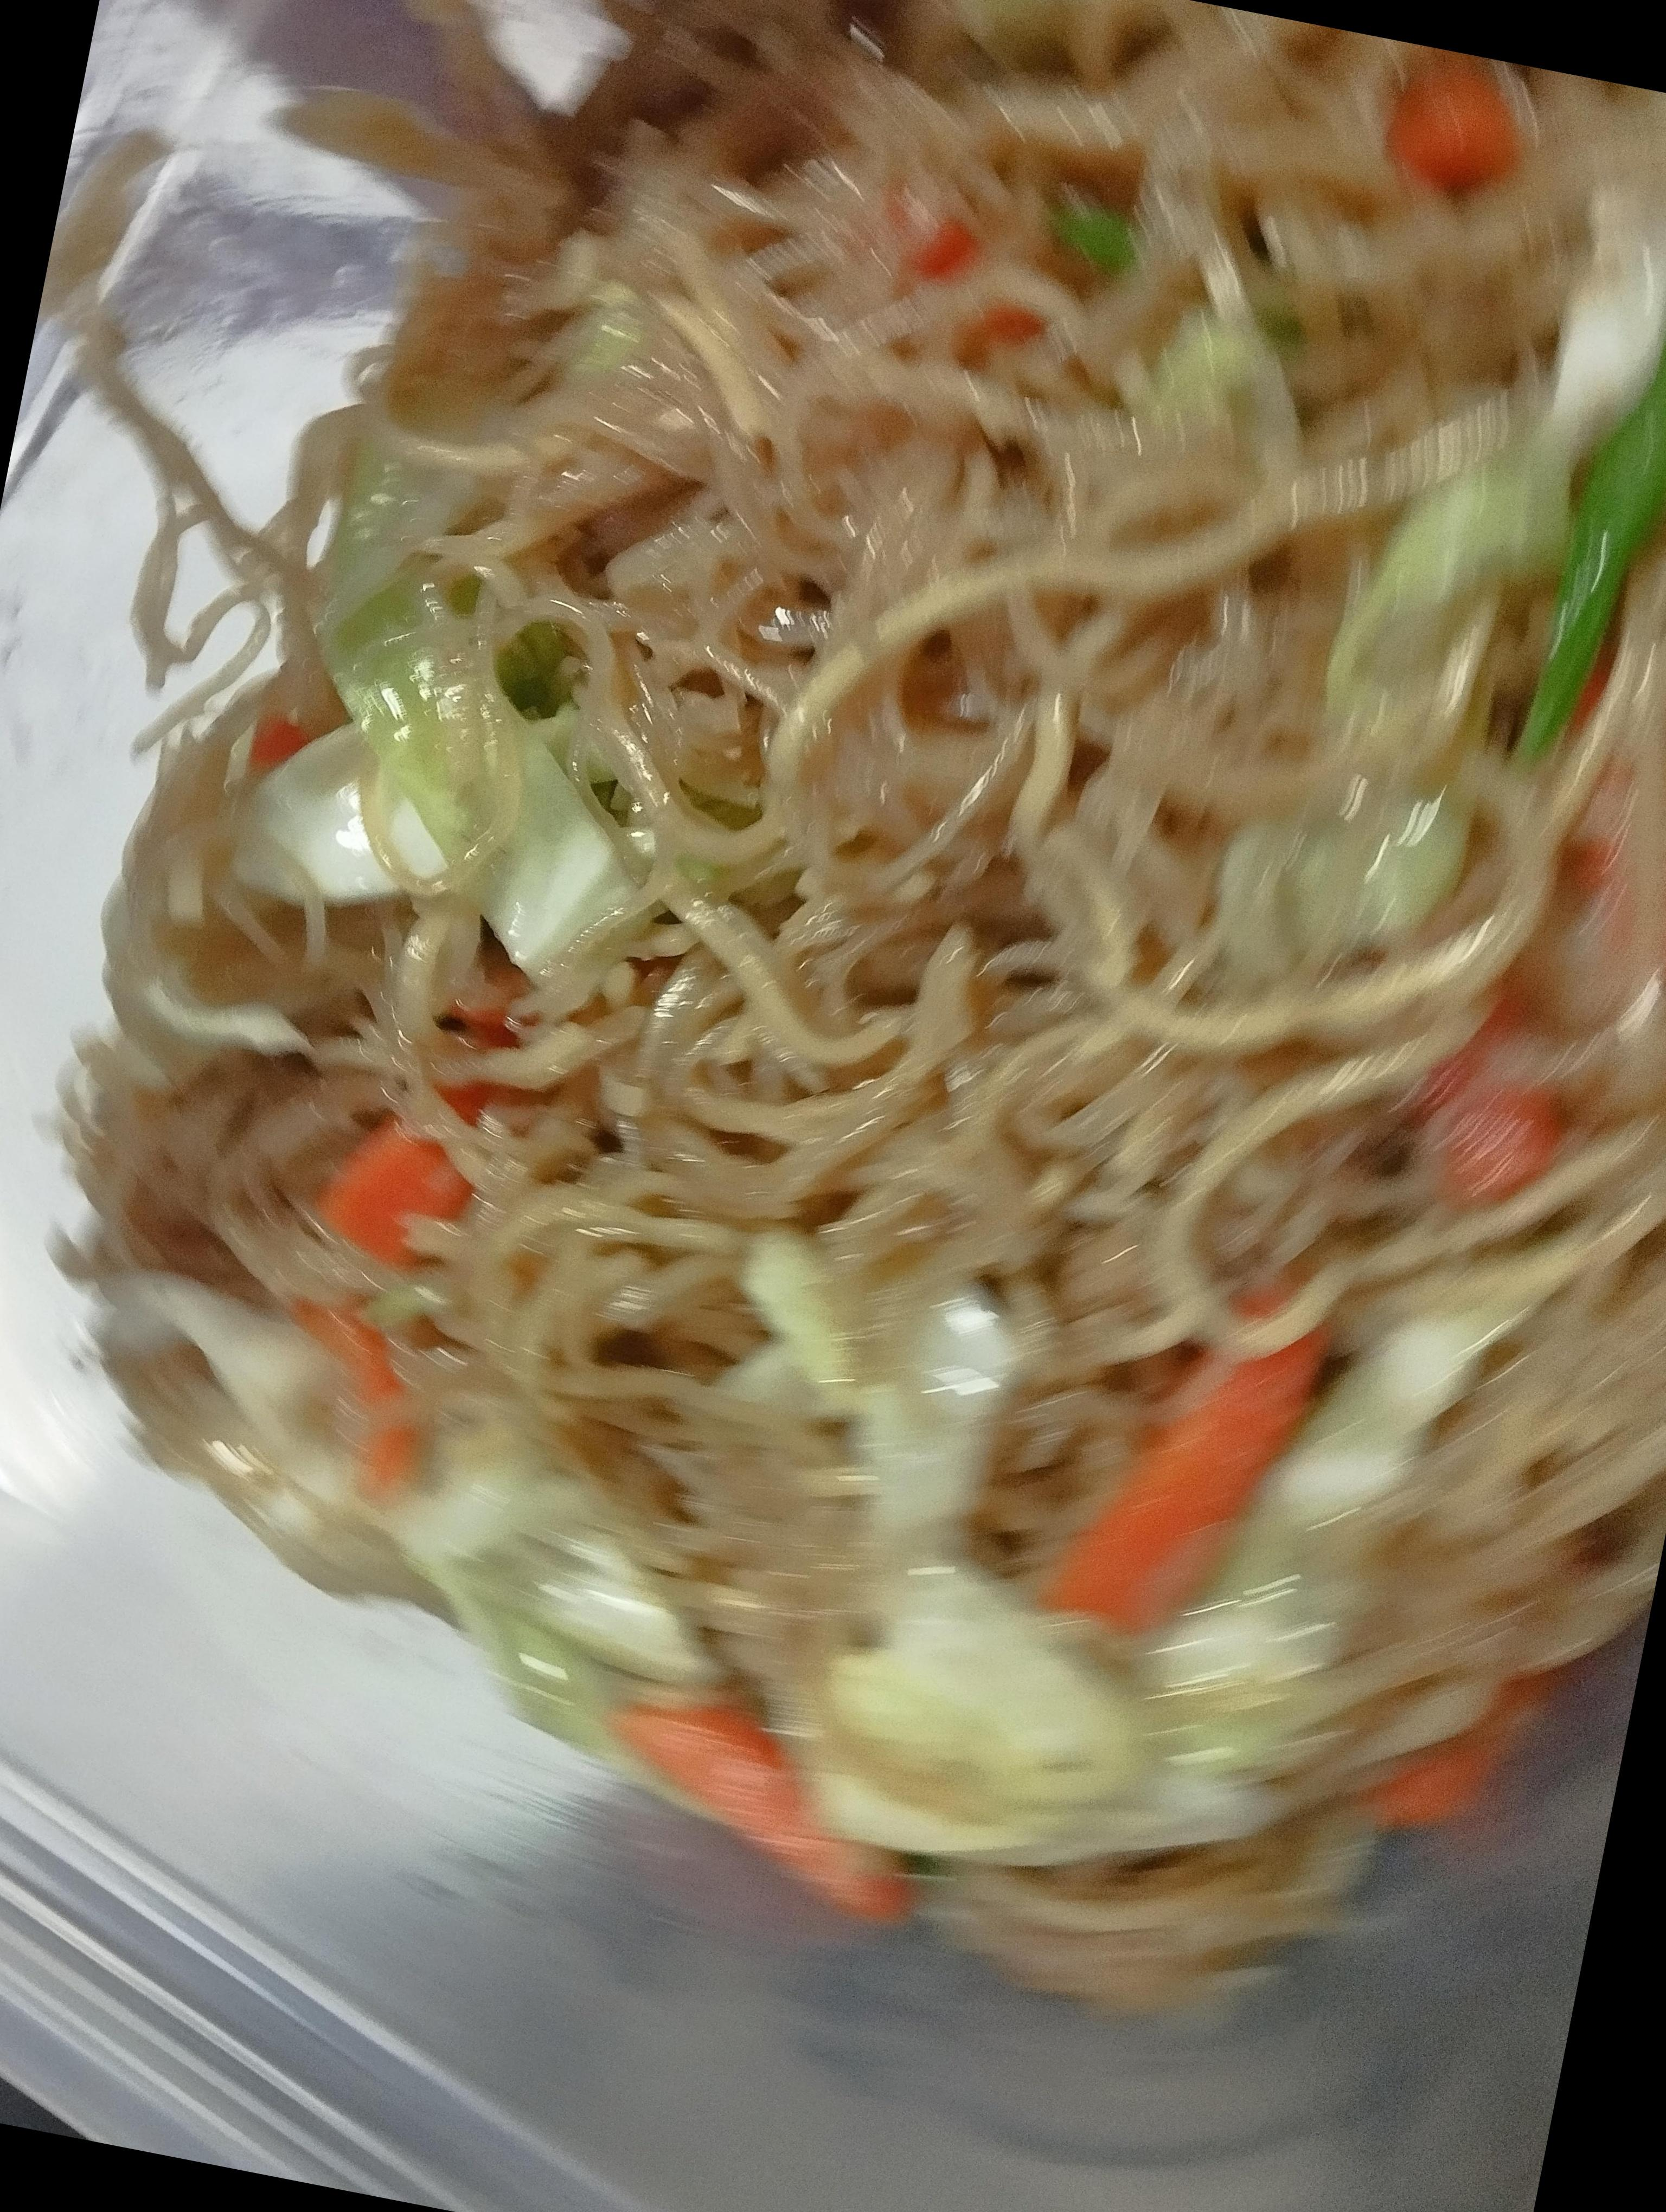pancit bihon: (40, 23, 1665, 2009)
